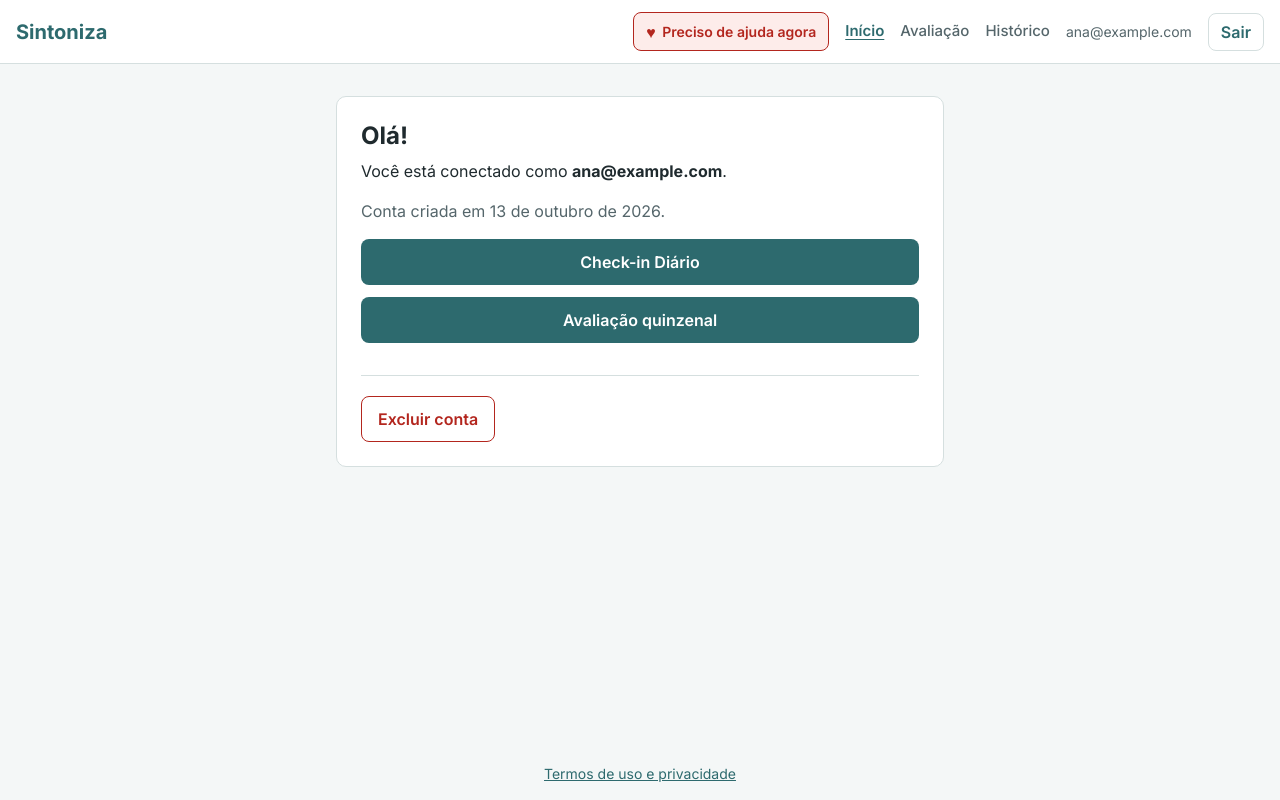
ExcluirConta (R04) › calls DELETE /api/me, clears the session and redirects on confirmation
Check: the heading "Olá!" is shown, box [361,121,408,150]
Click the button "Excluir conta" at (428, 419), box [361,396,495,442]
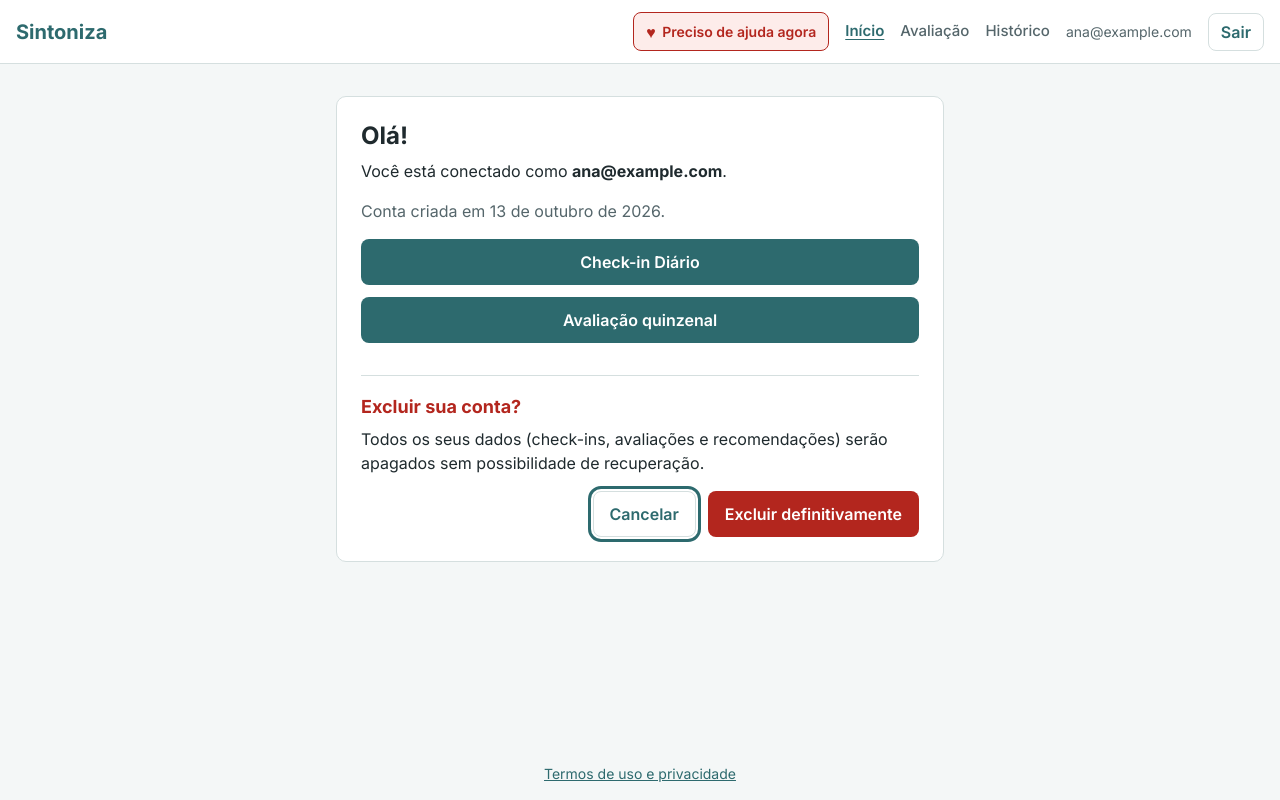
Click the button "Excluir definitivamente" at (813, 514), box [708,490,919,536]
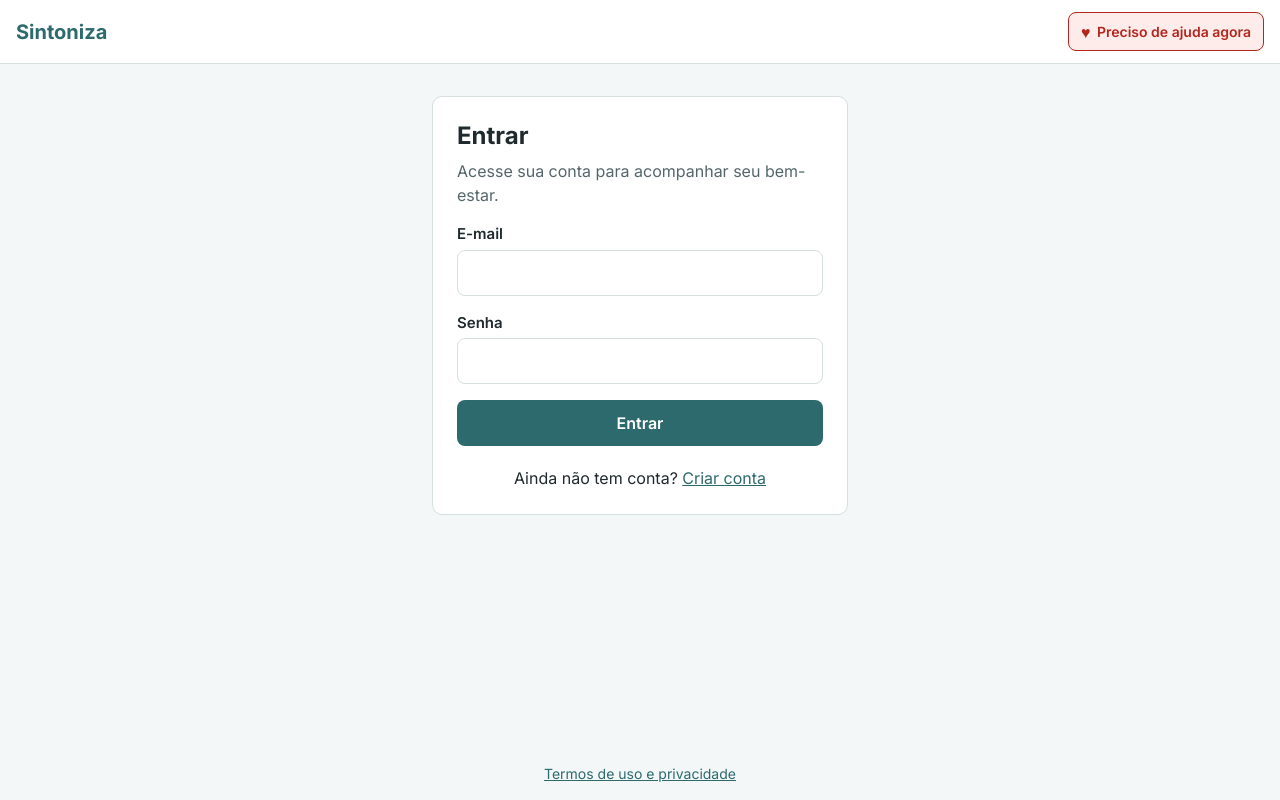
Check: the heading "Entrar" is shown, box [457,121,528,150]
